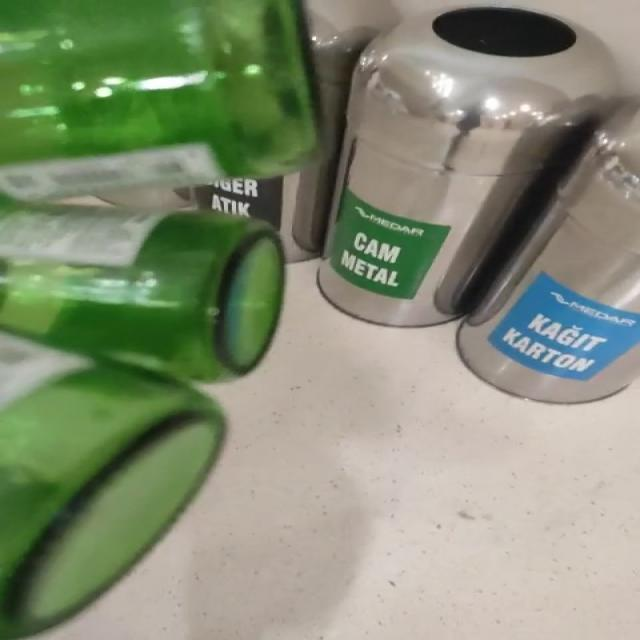glass: (0, 0, 319, 640)
